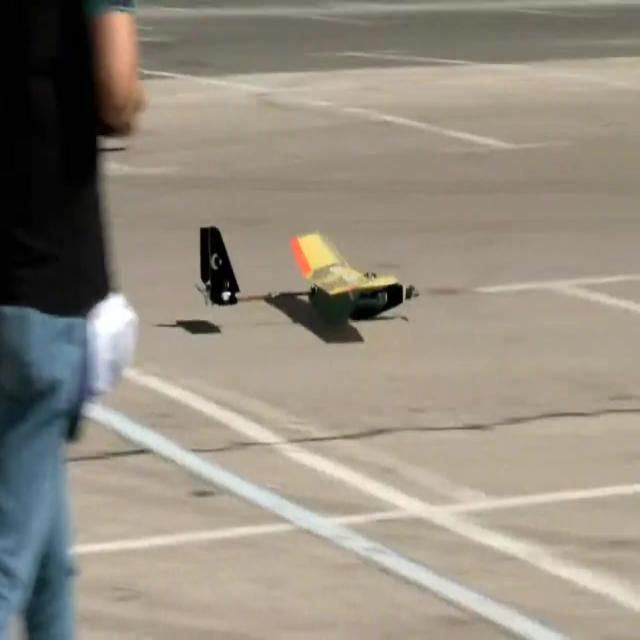iha: (199, 243, 421, 281)
